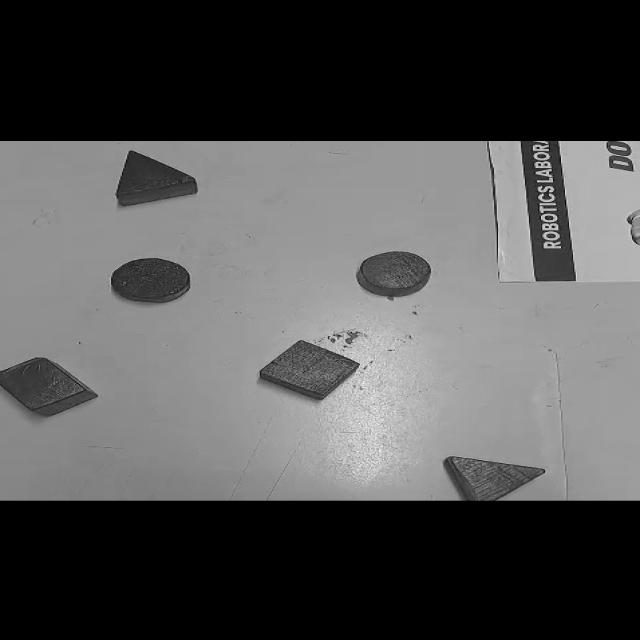bcircle: (109, 257, 192, 303)
bcube: (259, 339, 362, 400)
btriangle: (115, 150, 199, 206)
rcircle: (356, 250, 432, 296)
rcube: (0, 356, 99, 417)
rtriangle: (445, 455, 544, 500)
